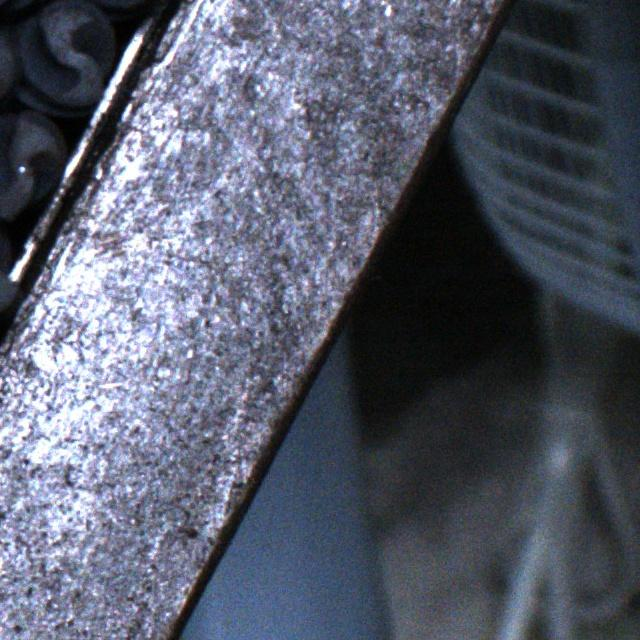tool_b: (8, 2, 115, 118), (0, 109, 64, 220)
